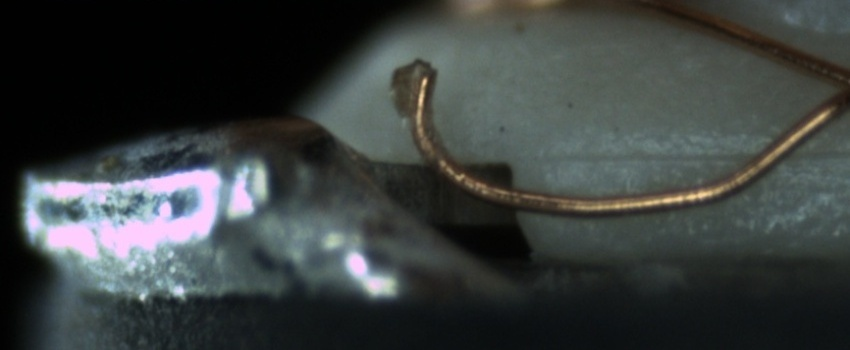CL: (806, 51, 850, 120)
DL: (533, 126, 849, 182)
